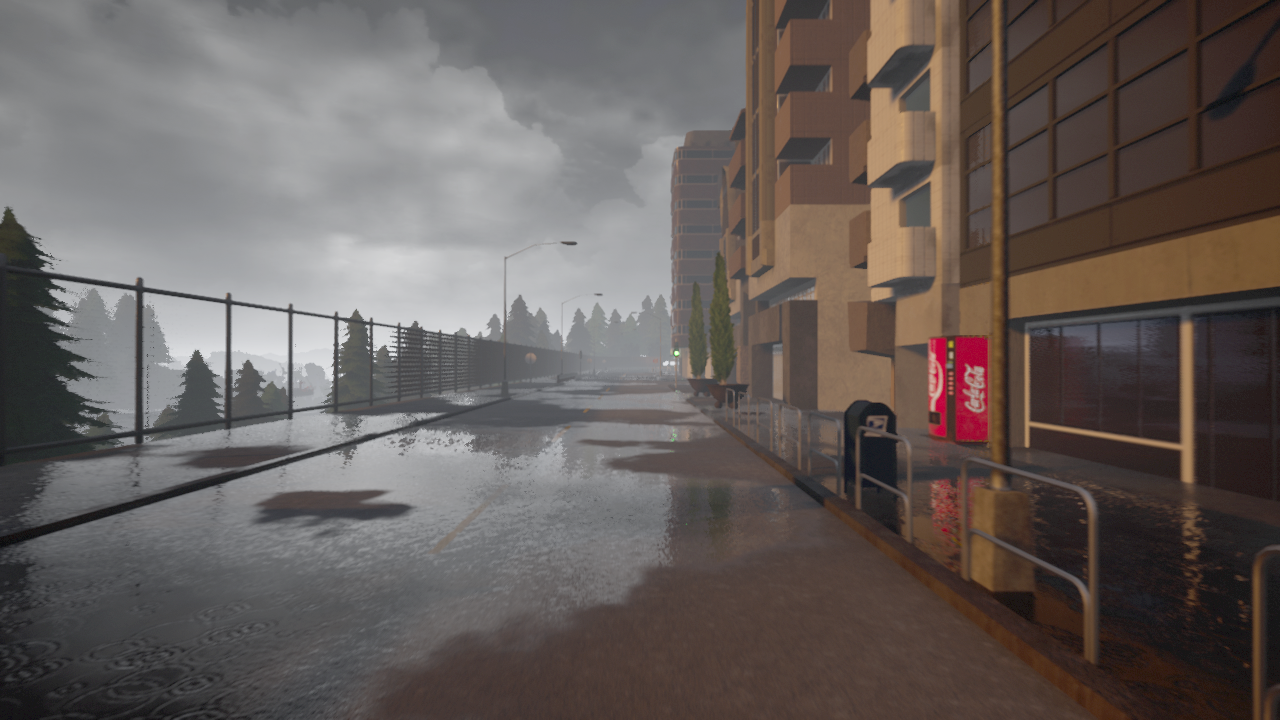green: (673, 341, 680, 357)
